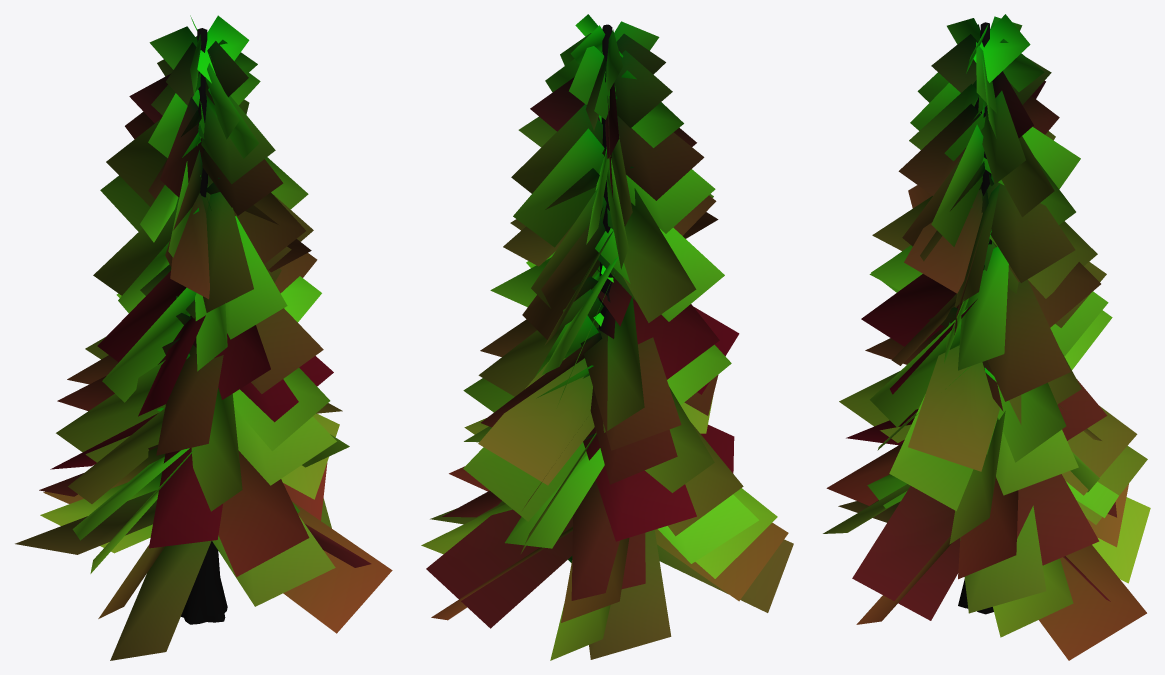
File: M_Pine_2_11.fbx
3 renders of one model, left to right at view 1: azimuth 30°, elevation 25°; view 2: azimuth 150°, elevation 25°; view 3: azimuth 270°, elevation 25°, orthographic.
Parts seen in each view (by area): view 1: Tree_11; view 2: Tree_11; view 3: Tree_11.
Part boxes in pixels (<box>): Tree_11: <box>15,15,392,660</box>; Tree_11: <box>421,14,793,660</box>; Tree_11: <box>823,14,1150,660</box>.
Bounding box in the file's own units: 894 × 1787 × 903.
